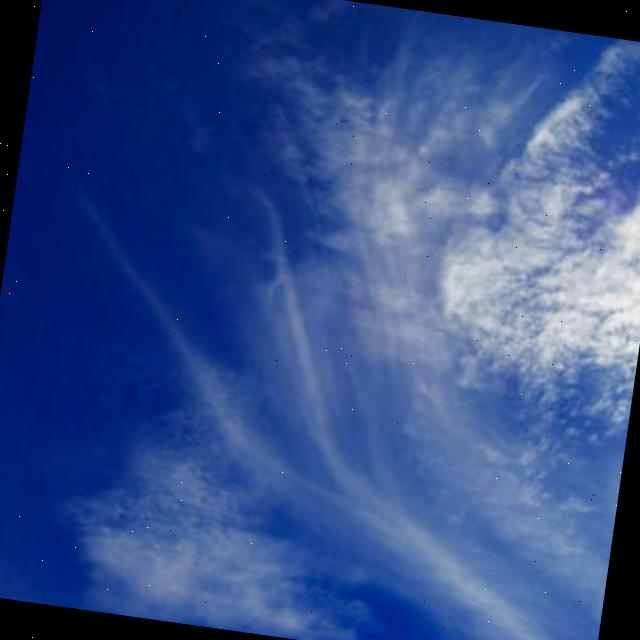As: (1, 11, 640, 621)
